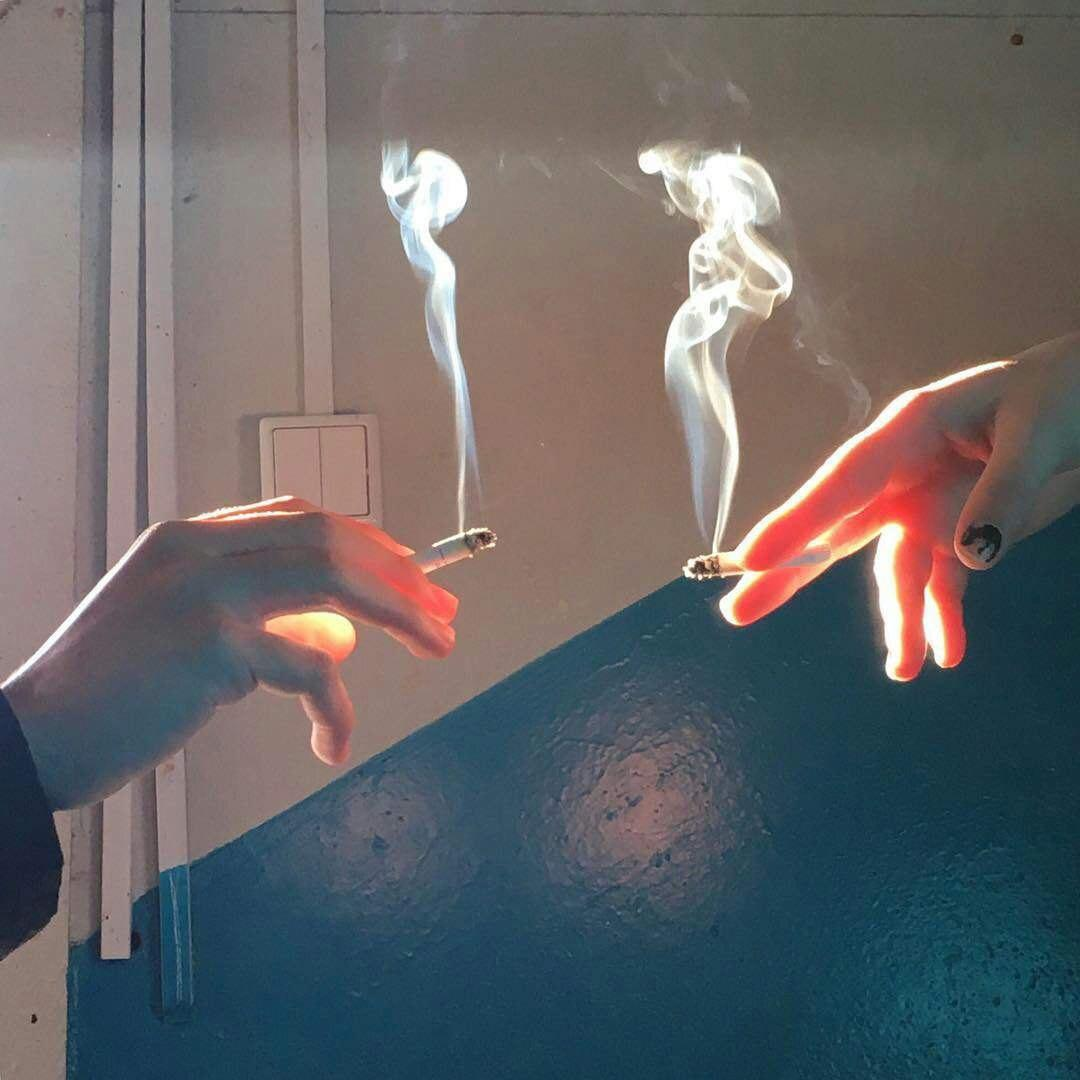cigarette: (683, 541, 831, 579), (402, 526, 497, 573)
